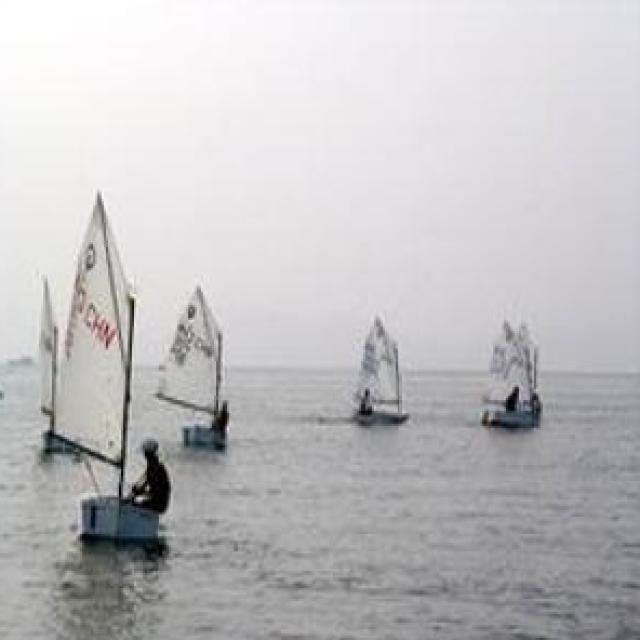sailboat: (59, 187, 167, 539), (155, 279, 235, 452), (36, 277, 79, 459), (481, 313, 547, 428), (350, 306, 412, 428)
